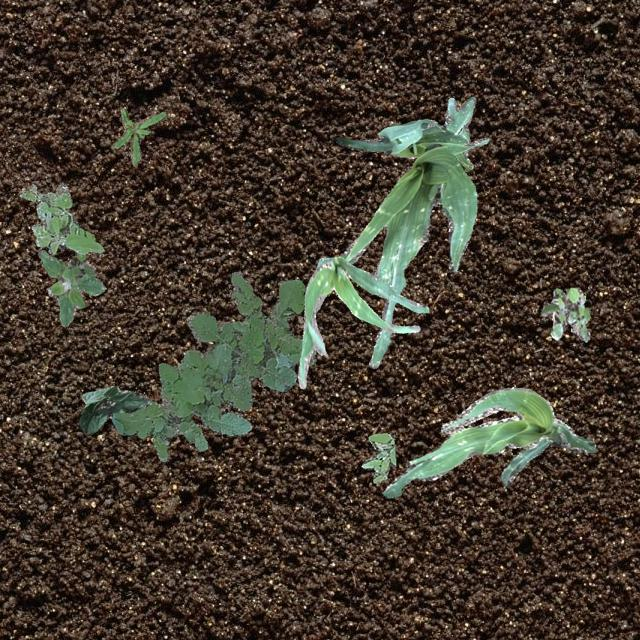crop: (340, 142, 476, 368), (382, 386, 594, 496), (296, 255, 428, 388), (332, 95, 488, 168), (78, 384, 150, 434)
weed: (110, 272, 314, 460), (18, 182, 102, 254), (36, 248, 104, 324), (112, 108, 164, 164), (540, 286, 590, 341), (360, 432, 394, 482)
